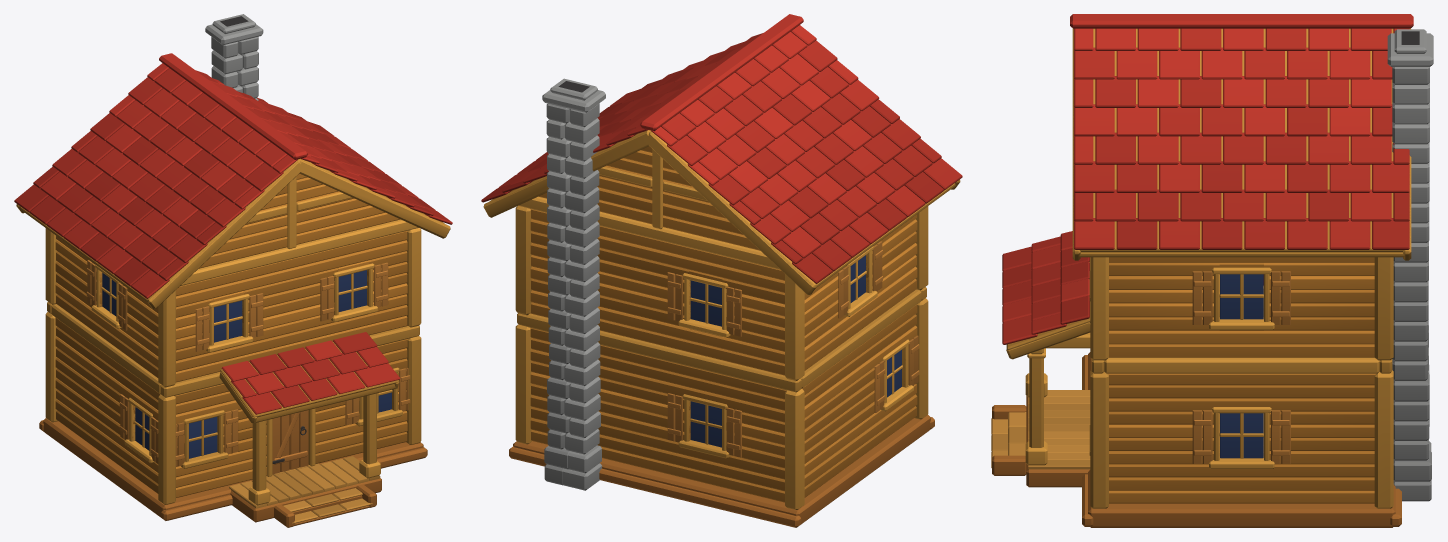
Rendered from house.glb.
3 renders of one model, left to right at view 1: azimuth 30°, elevation 25°; view 2: azimuth 150°, elevation 25°; view 3: azimuth 270°, elevation 25°, orthographic. The views are drawn at different scales.
Visible parts, largest first — view 1: roof, walls_floor2, walls_floor1, porch_roof, window_frames, porch, shutters, foundation, glass, chimney, porch_steps, front_door; view 2: roof, walls_floor1, walls_floor2, chimney, foundation, shutters, window_frames, glass; view 3: roof, walls_floor1, walls_floor2, chimney, porch_roof, foundation, porch, shutters, window_frames, glass, porch_steps.
Boxes of the visible parts, box(x1,y1,x2,y2) form: roof: box(14, 53, 452, 308); walls_floor2: box(45, 173, 421, 387); walls_floor1: box(45, 302, 421, 504); porch_roof: box(219, 332, 400, 423); window_frames: box(91, 263, 402, 476); porch: box(229, 393, 381, 522); shutters: box(86, 260, 410, 466); foundation: box(39, 418, 427, 520); glass: box(102, 270, 391, 458); chimney: box(205, 14, 263, 100); porch_steps: box(274, 484, 376, 527); front_door: box(272, 410, 308, 474); roof: box(481, 14, 962, 294); walls_floor1: box(515, 287, 928, 509); walls_floor2: box(515, 146, 928, 380); chimney: box(542, 78, 605, 490); foundation: box(509, 414, 934, 527); shutters: box(667, 241, 919, 457); window_frames: box(678, 246, 913, 458); glass: box(690, 255, 901, 447); roof: box(1070, 14, 1413, 260); walls_floor1: box(1090, 357, 1393, 508); walls_floor2: box(1090, 257, 1393, 360); chimney: box(1387, 29, 1433, 501); porch_roof: box(1002, 231, 1090, 359); foundation: box(1082, 352, 1401, 527); porch: box(1025, 332, 1090, 487); shutters: box(1192, 271, 1290, 463); window_frames: box(1089, 267, 1392, 468); glass: box(1220, 274, 1263, 458); porch_steps: box(991, 405, 1026, 475).
Size of the model in its own units: 8.59 by 9.61 by 8.51.
